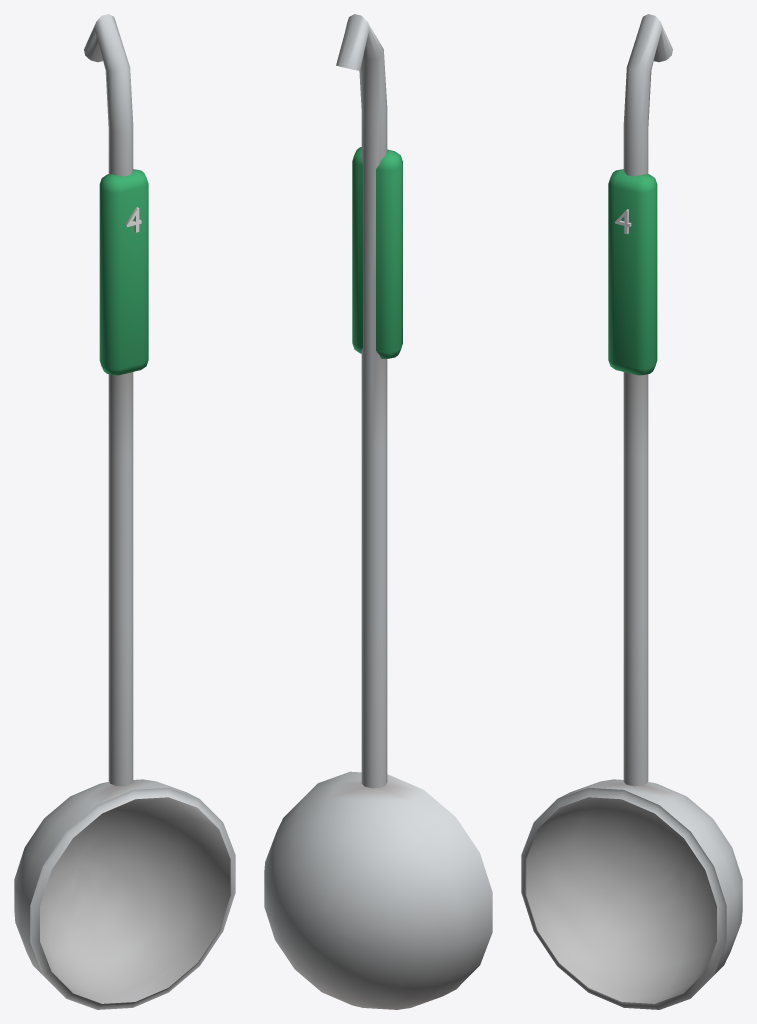
File: fp-ladle-4.gltf
The picture shows the model from 3 angles, left to right: view 1: azimuth 30°, elevation 25°; view 2: azimuth 150°, elevation 25°; view 3: azimuth 330°, elevation 25°; orthographic projection. The views are drawn at different scales.
Visible parts, largest first — view 1: model; view 2: model; view 3: model.
Part boxes in pixels (x1=…): model: x1=14, y1=14, x2=235, y2=1009; model: x1=264, y1=14, x2=492, y2=1009; model: x1=521, y1=14, x2=742, y2=1009.
Size of the model in its own units: 0.0756 by 0.3426 by 0.0399.
